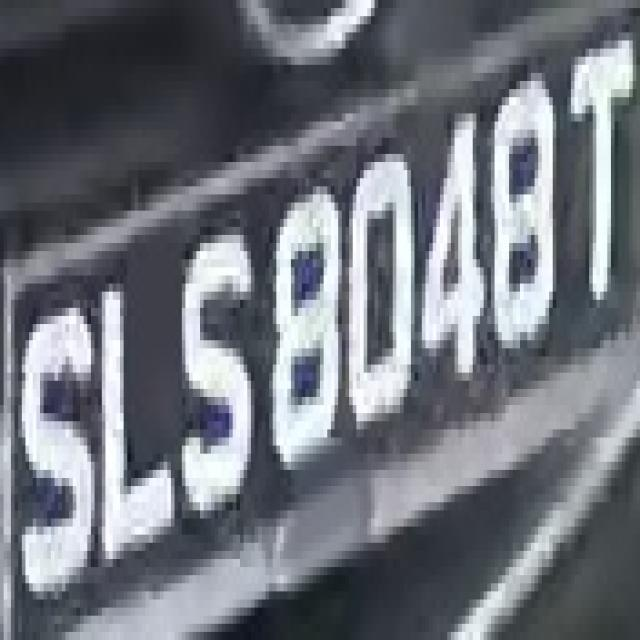0: (342, 138, 411, 437)
4: (414, 81, 494, 405)
8: (473, 65, 571, 381), (265, 162, 342, 462)
L: (87, 243, 178, 591)
S: (160, 194, 255, 535), (22, 275, 105, 624)
T: (549, 8, 633, 324)
